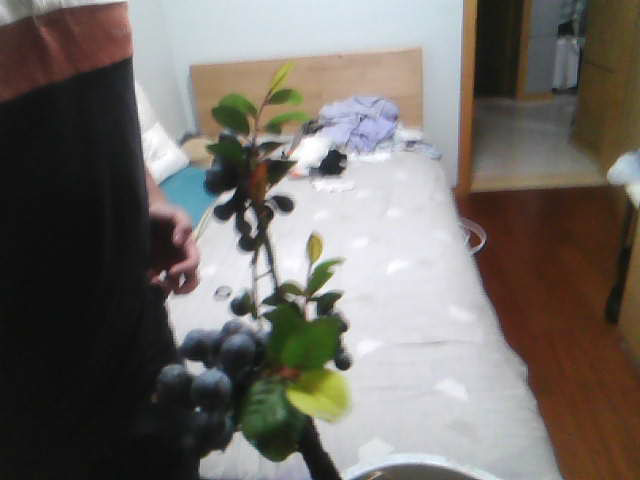blueberry: (199, 166, 228, 188)
